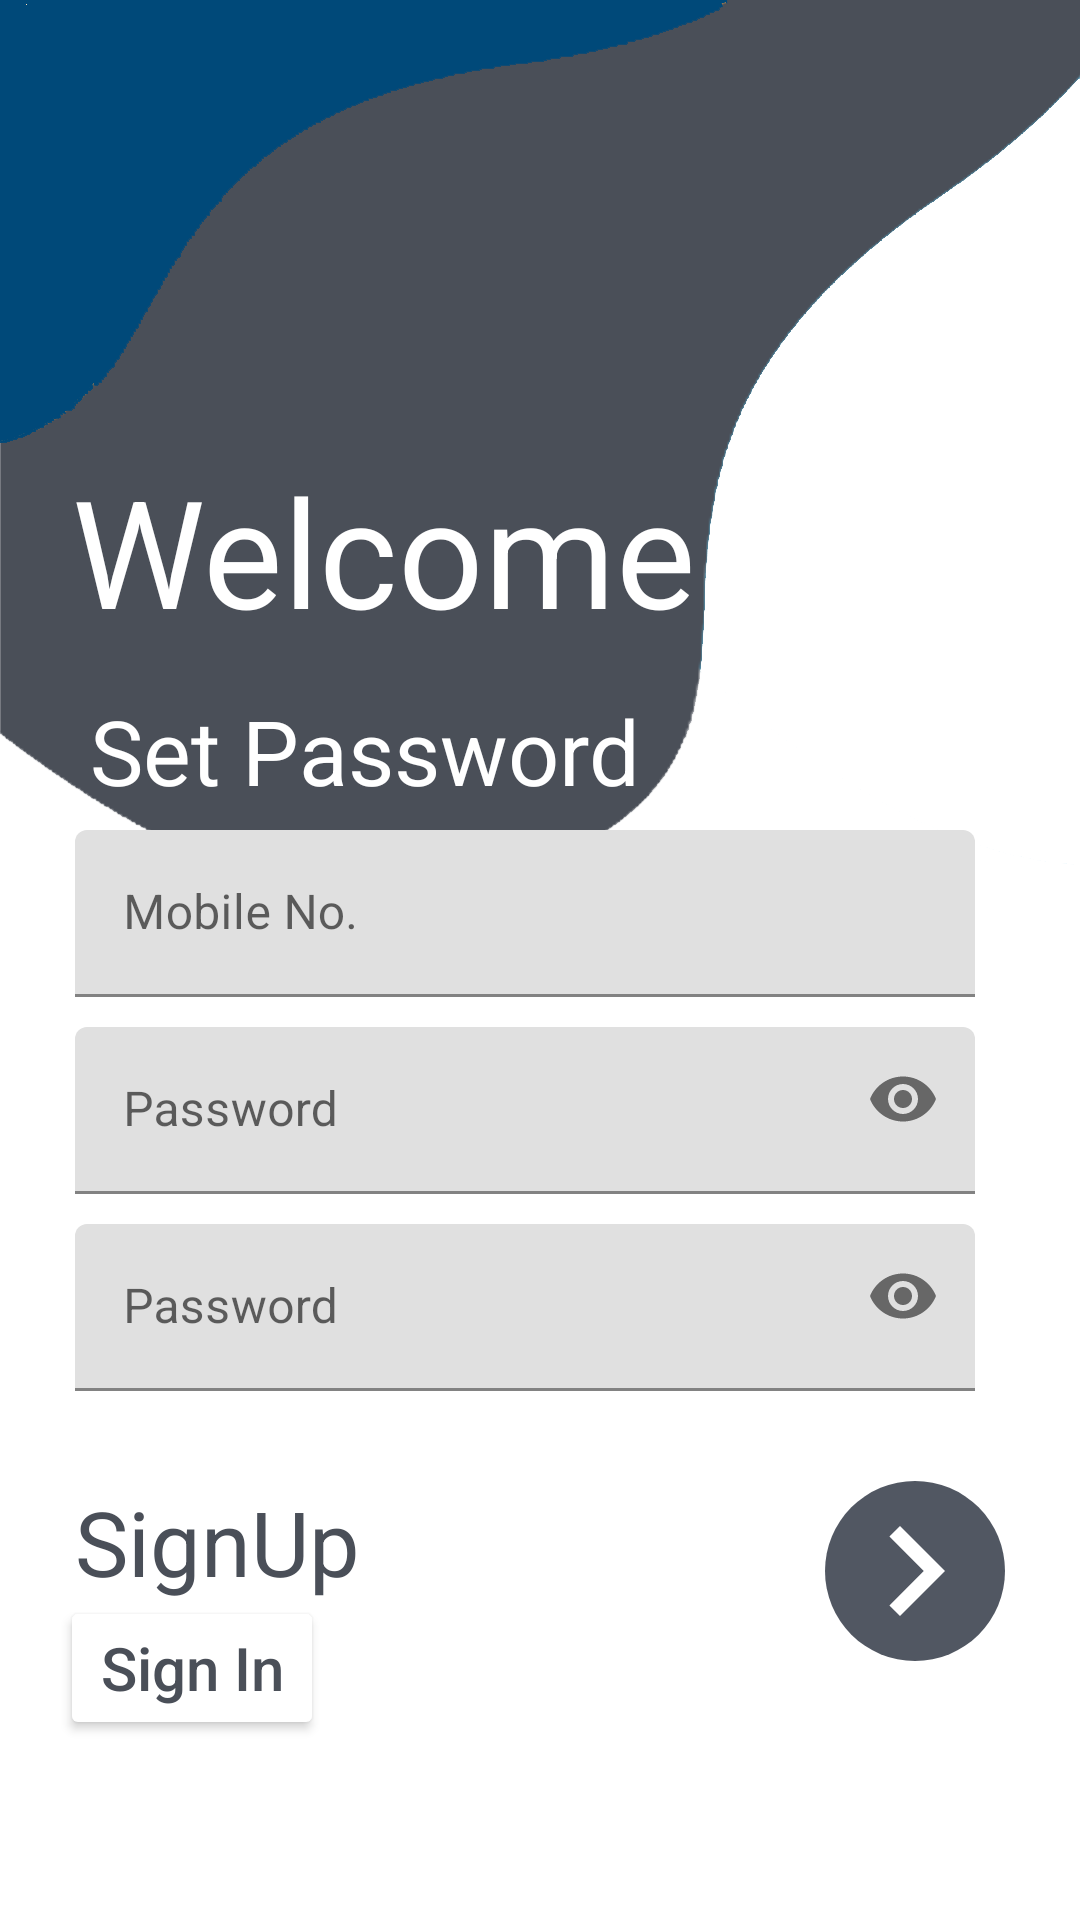

Icons on this 1080x1920 Android screen, each with the point to tap as (x,y):
navigate next: (915,1571)
